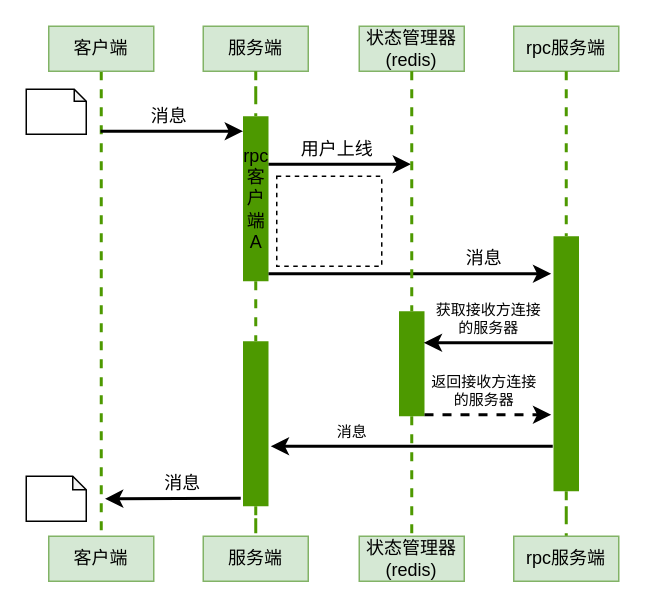
Image size: 645x608. Some labels were removed from this diagram. Here are the shapes that lost their labels. From the top down, the centre of each, then its label:
At (55,111): "发送方".
At (328,220): "检查接收方连接的服务器是否是本服务器".
At (565,363): "rpc服务器".
At (255,423): "rpc客户端B".
At (55,498): "接收方".
